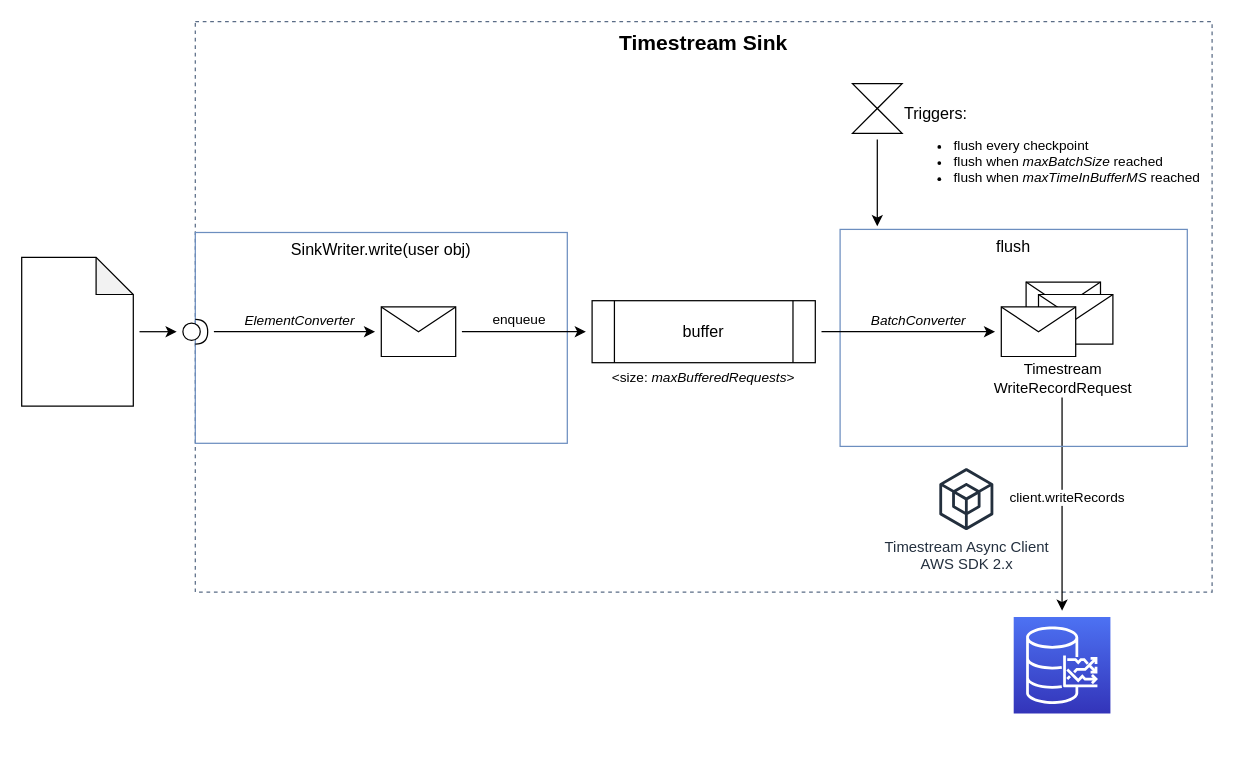
The diagram is 1234 pixels wide and 761 high, and some of its shapes have lost their labels. The shapes that lost their labels are listed below. From the top down, each one's centre as x and y in pixels, then its label:
At point 76,331: "<InputT> User Object".
At point 418,331: "Timestream Record".
At point 1061,665: "Timestream".
